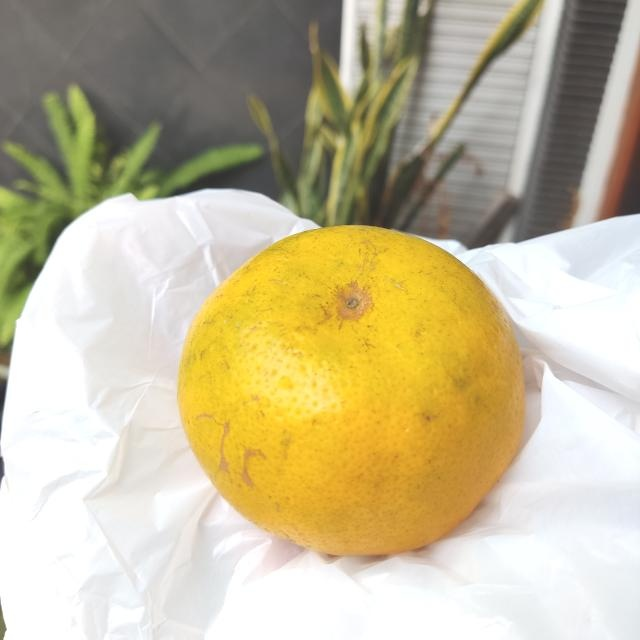agrume: (176, 223, 539, 565)
